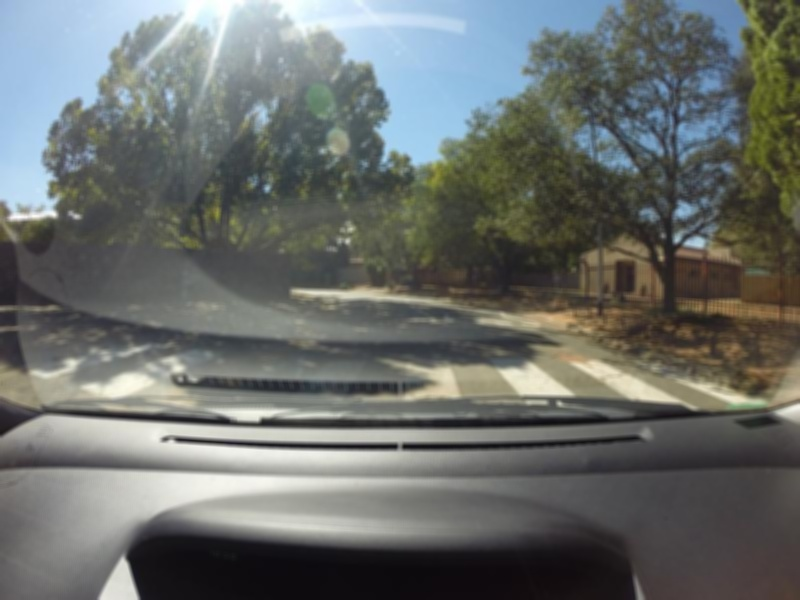pothole: (553, 351, 585, 367)
